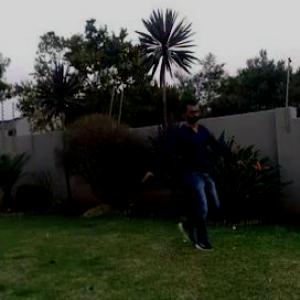land: (124, 95, 255, 256)
